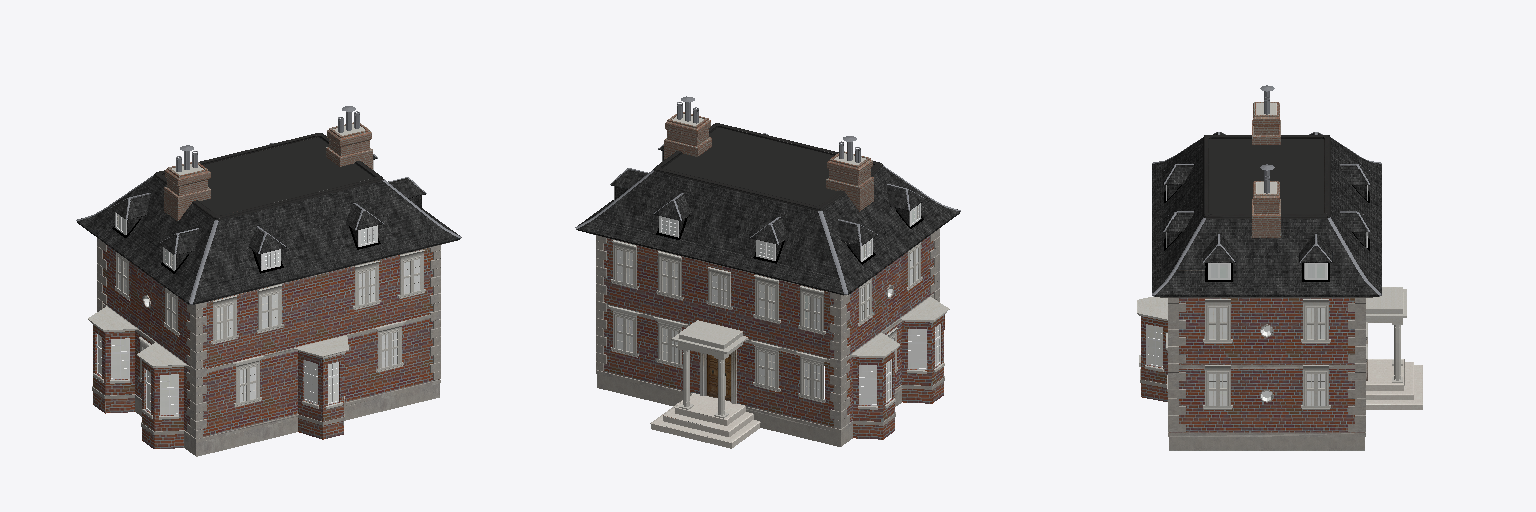
3 renders of one model, left to right at view 1: azimuth 30°, elevation 25°; view 2: azimuth 150°, elevation 25°; view 3: azimuth 270°, elevation 25°, orthographic.
Visible parts, largest first — view 1: House_Joined_Plane.000; view 2: House_Joined_Plane.000; view 3: House_Joined_Plane.000.
Part boxes in pixels (x1,y1,x2,y2): House_Joined_Plane.000: (76,106,461,456); House_Joined_Plane.000: (575,96,960,448); House_Joined_Plane.000: (1137,85,1422,450).
Size of the model in its own units: 16.78 by 14.86 by 14.6.
Materials: 1 (1 with a texture image).